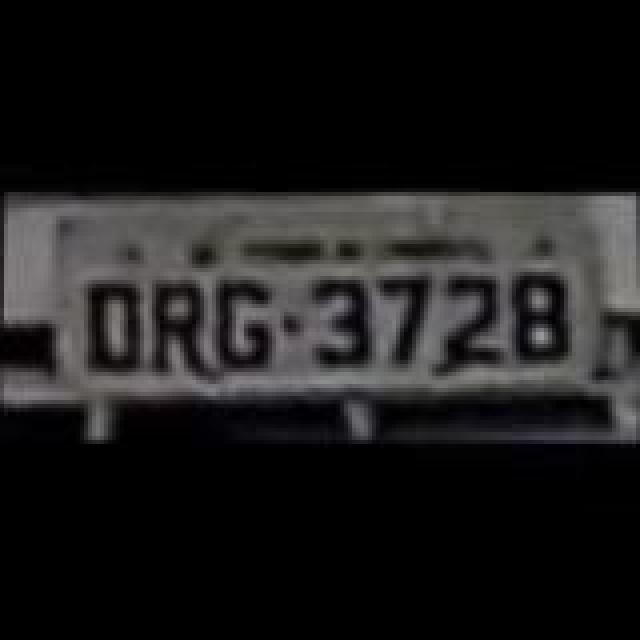2: (434, 272, 510, 368)
3: (304, 274, 368, 374)
7: (374, 274, 442, 370)
8: (502, 268, 578, 368)
D: (76, 270, 148, 374)
G: (206, 280, 282, 376)
R: (146, 274, 206, 374)
